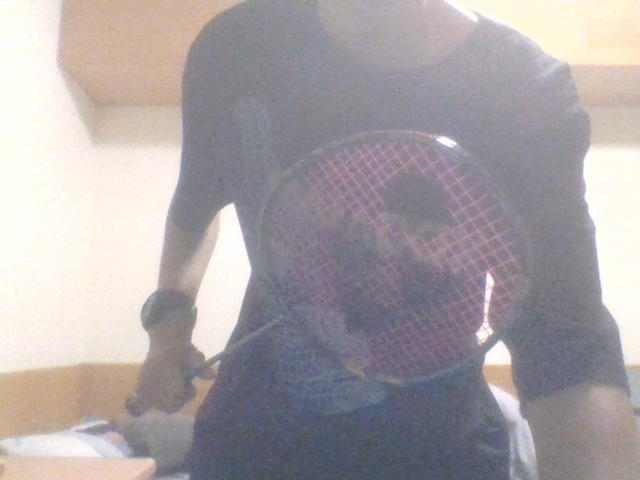human: (136, 1, 640, 480)
racket: (124, 131, 533, 418)
